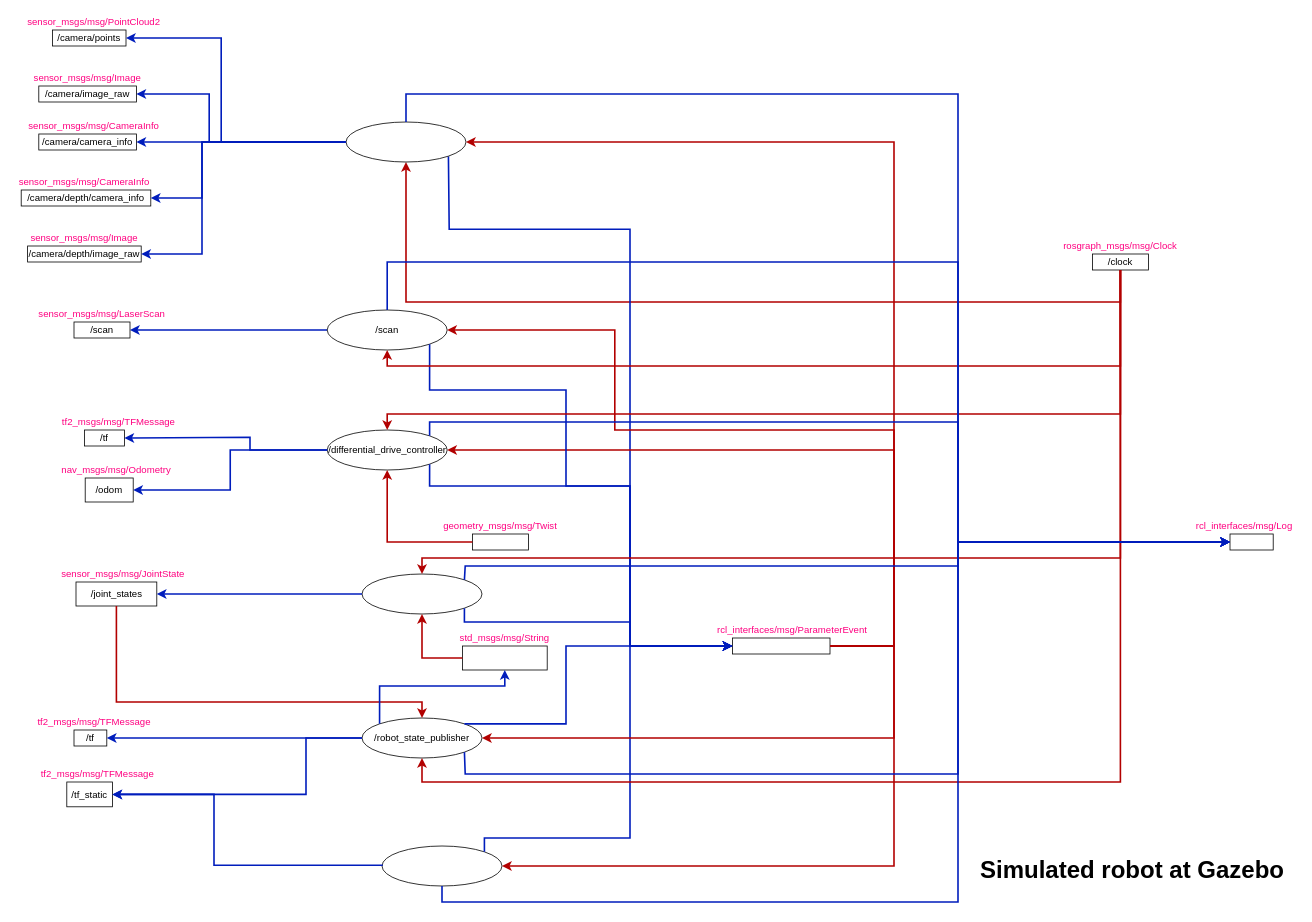
This 1312x922 diagram has some shape labels left out. The centre of each missing label's shape, as x and y in pixels:
"/camera_controller" goes at point (405, 141).
"/cmd_vel" goes at point (500, 541).
"/joint_state_publisher" goes at point (421, 593).
"/parameter_events" goes at point (781, 645).
"/robot_description" goes at point (504, 657).
"/rosout" goes at point (1251, 541).
"/static_transform_publisher" goes at point (441, 865).
